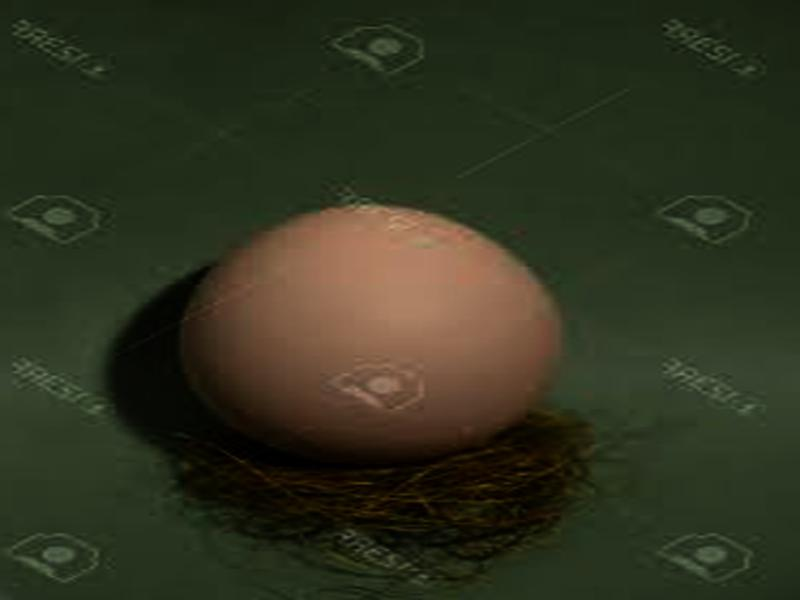Eggs: (179, 202, 559, 460)
